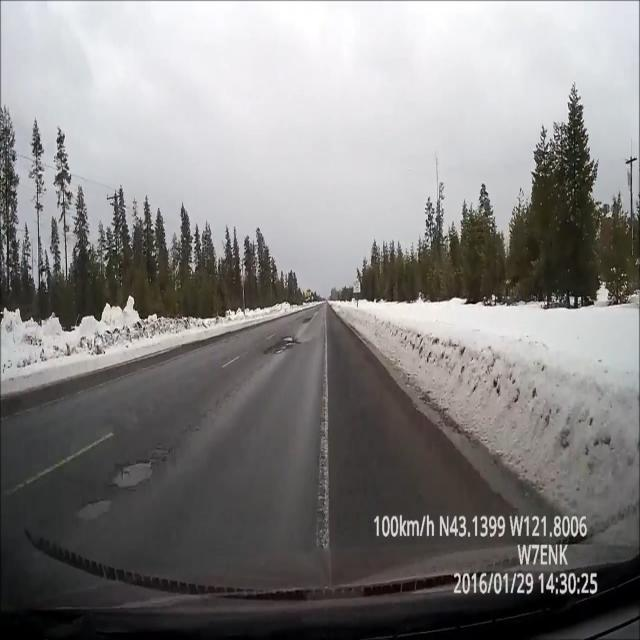Pothole: (73, 447, 163, 523), (259, 328, 305, 360)
